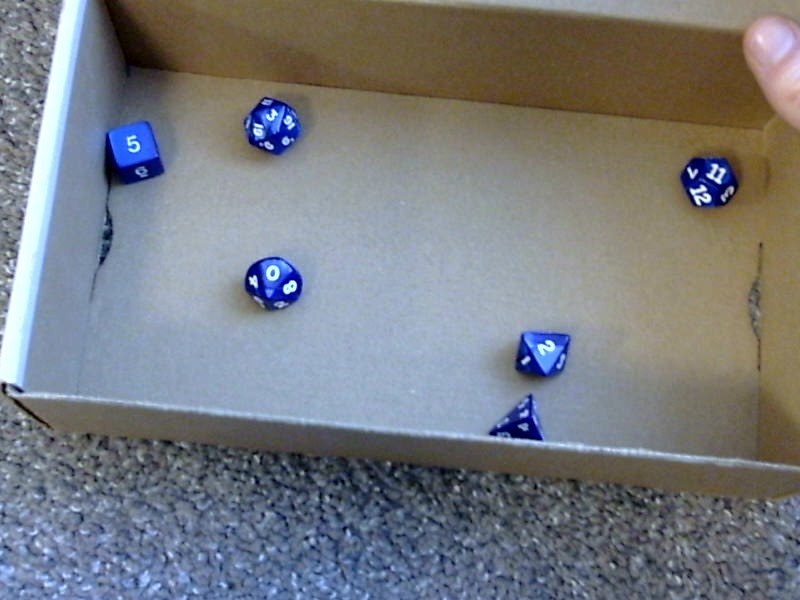d10 10: (237, 250, 303, 313)
d12 11: (679, 147, 740, 212)
d20 3: (237, 92, 303, 157)
d4 4: (489, 396, 549, 446)
d6 5: (99, 112, 164, 187)
d8 2: (511, 324, 571, 377)
